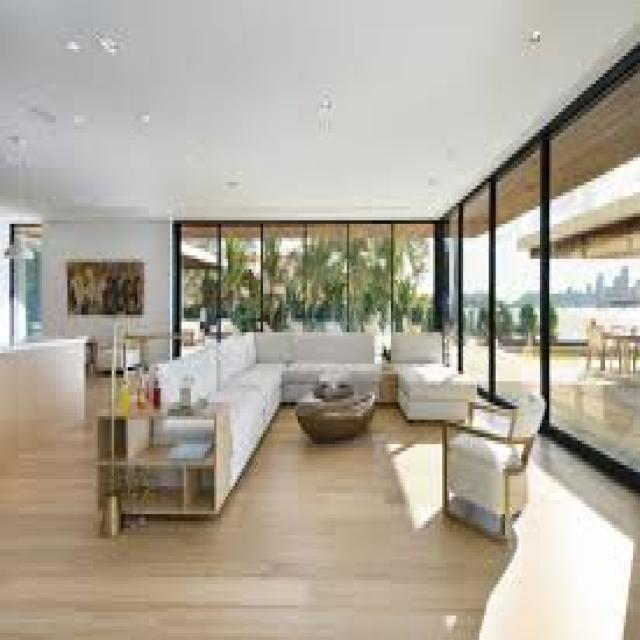Chair: (446, 394, 548, 537)
Sofa: (103, 338, 474, 532)
Table: (292, 384, 378, 445)
